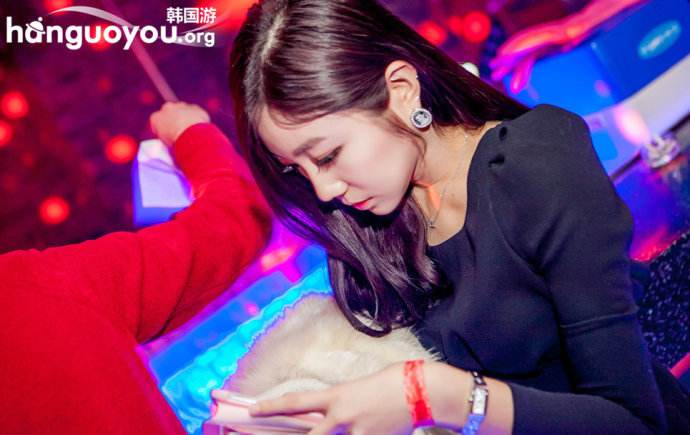person: (225, 1, 581, 370)
